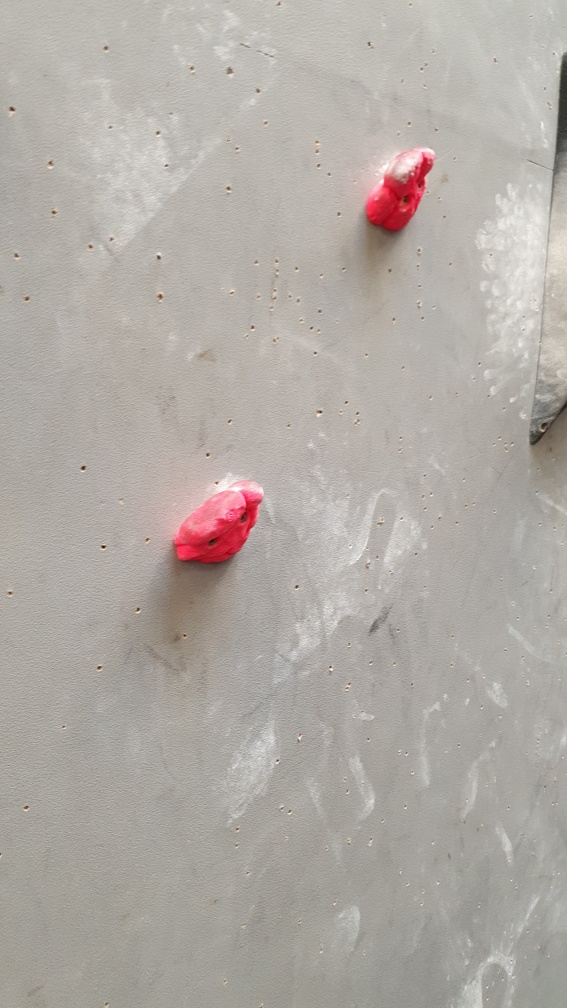Jug: (169, 475, 266, 569), (366, 144, 437, 235)
